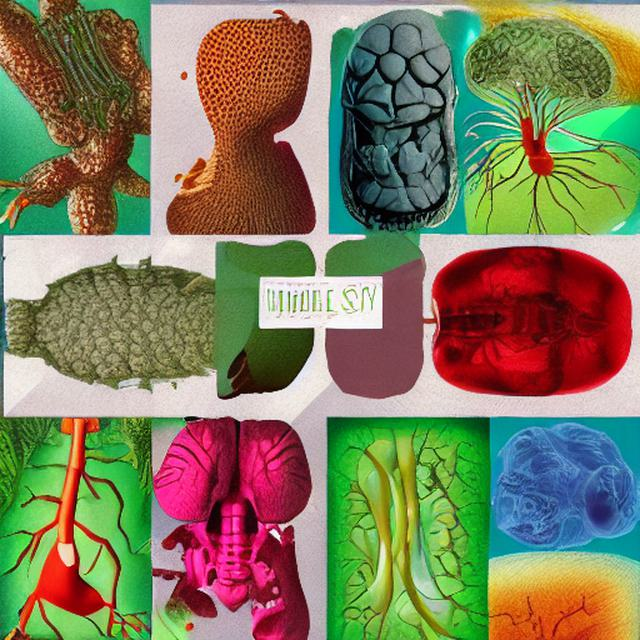Graph: (260, 279, 341, 327)
